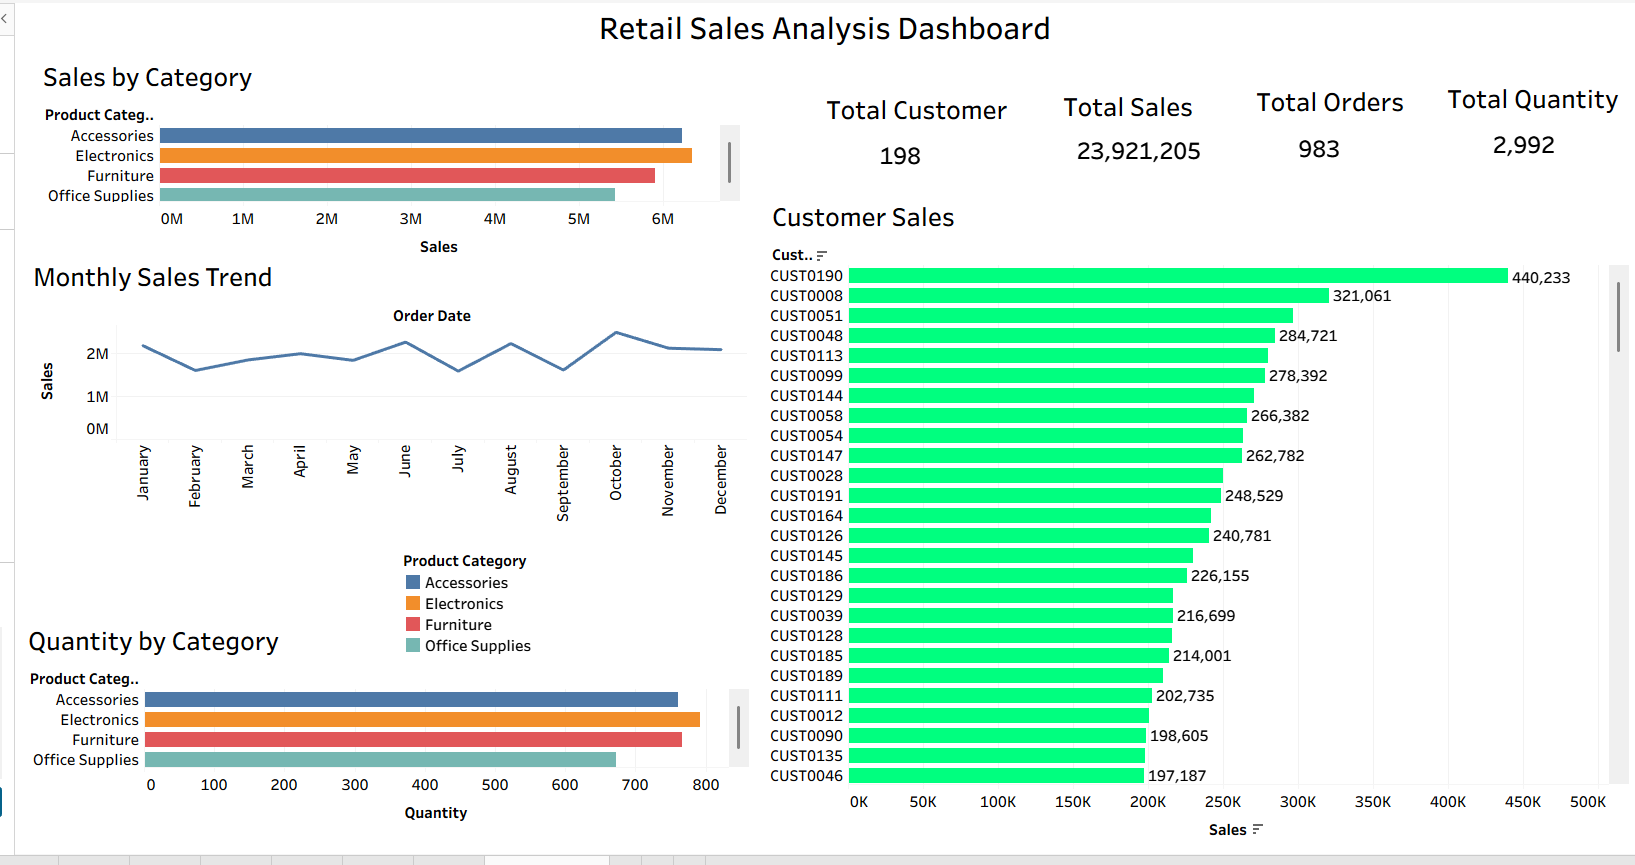

The page's visual inventory and layout, read from the dashboard file:
{"tool":"tableau","page":{"name":"Dashboard 1","canvas":[1620,860],"ordinal":0},"visuals":[{"type":"title","box":[8,8,1604,49]},{"type":"worksheet","title":"Sheet 5","mark":"Automatic","rows":["Product_Category"],"cols":["Sales"],"box":[24,61,701,209]},{"type":"text","box":[1429,87,178,35]},{"type":"text","box":[1238,90,155,35]},{"type":"text","box":[1045,95,137,35]},{"type":"text","box":[808,98,188,35]},{"type":"worksheet","title":"Sheet 4","mark":"Automatic","box":[1464,134,154,77]},{"type":"worksheet","title":"Sheet 3","mark":"Automatic","box":[1269,138,142,77]},{"type":"worksheet","title":"Sheet 2","mark":"Automatic","box":[1050,140,152,57]},{"type":"worksheet","title":"Sheet 1","mark":"Automatic","box":[850,145,113,49]},{"type":"worksheet","title":"Sheet 7","mark":"Automatic","rows":["Customer_ID"],"cols":["Sales"],"box":[753,201,861,652]},{"type":"worksheet","title":"Sheet 6","mark":"Automatic","rows":["Sales"],"cols":["Order_Date"],"box":[14,261,718,284]},{"type":"legend","title":"Sheet 8","param":"[federated.1c4lbrq100r0af188s36w115tns8].[none:Product_Category:nk]","box":[388,556,140,106]},{"type":"worksheet","title":"Sheet 8","mark":"Automatic","rows":["Product_Category"],"cols":["Quantity"],"box":[9,625,725,211]}]}

Visuals, with their boxes in screenshot pixels (x1, y1, x2, y2), scaled from the page's 1620x860 canvas onto the 1635x865 screenshot:
title: region(8, 8, 1627, 57)
"Sheet 5" worksheet: region(24, 61, 732, 272)
text: region(1442, 88, 1622, 123)
text: region(1249, 91, 1406, 126)
text: region(1055, 96, 1193, 131)
text: region(815, 99, 1005, 134)
"Sheet 4" worksheet: region(1478, 135, 1633, 212)
"Sheet 3" worksheet: region(1281, 139, 1424, 216)
"Sheet 2" worksheet: region(1060, 141, 1213, 198)
"Sheet 1" worksheet: region(858, 146, 972, 195)
"Sheet 7" worksheet: region(760, 202, 1629, 858)
"Sheet 6" worksheet: region(14, 263, 739, 548)
"Sheet 8" legend: region(392, 559, 533, 666)
"Sheet 8" worksheet: region(9, 629, 741, 841)
